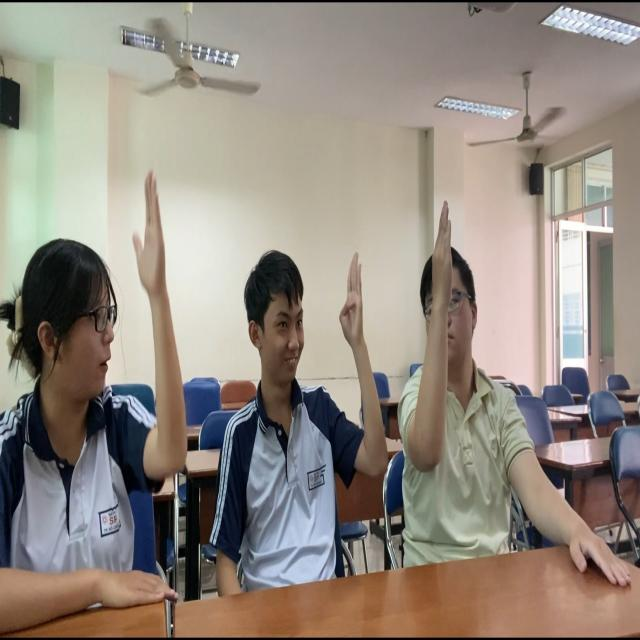raise_hand: (1, 173, 198, 640), (394, 185, 553, 577)
